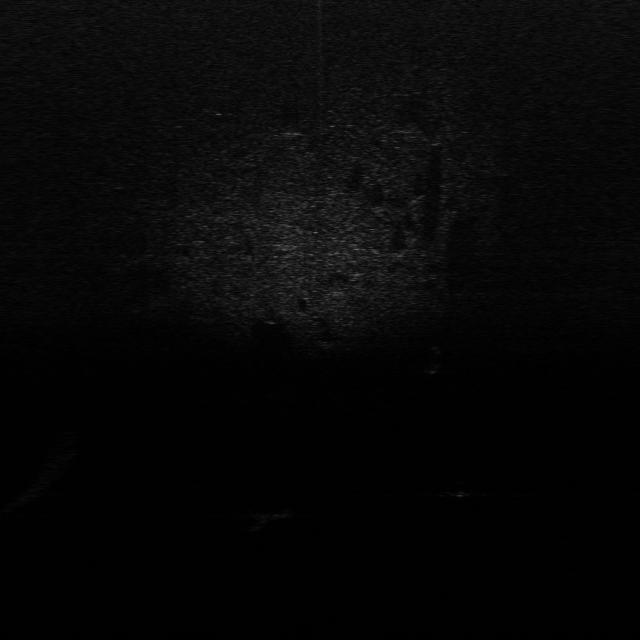ball: (442, 477, 478, 500)
square cage: (243, 503, 304, 522)
tyre: (421, 341, 448, 377)
